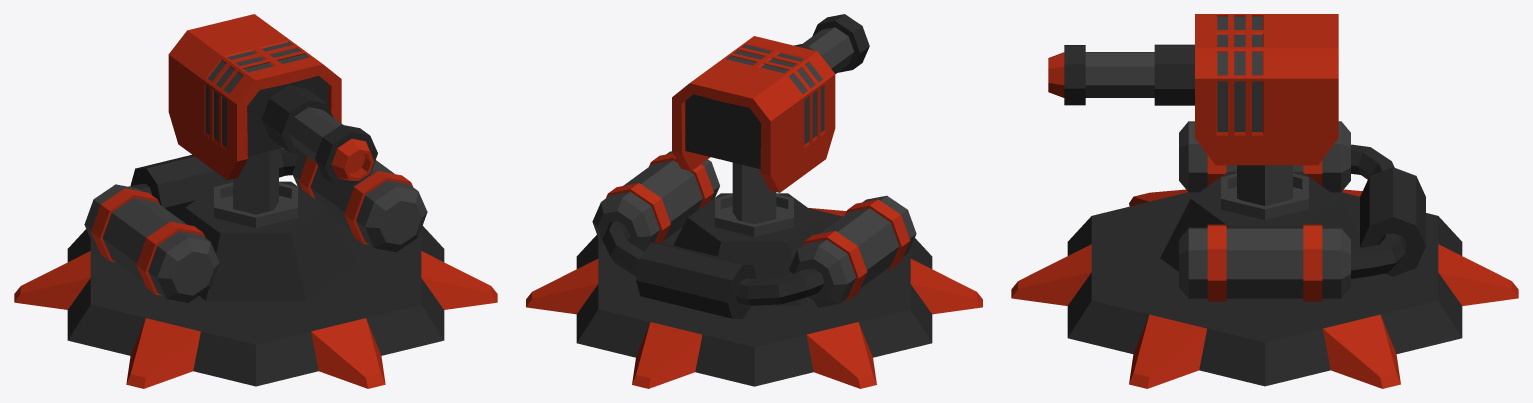
File: Flamethrower Turret.glb
3 renders of one model, left to right at view 1: azimuth 30°, elevation 25°; view 2: azimuth 150°, elevation 25°; view 3: azimuth 270°, elevation 25°, orthographic. The views are drawn at different scales.
Visible parts, largest first — view 1: BaseFlamethrowerTurret1, HeadFlamethrowerTurret1, AmmoFlamethrowerTurret1, MiddleFlamethrowerTurret1; view 2: BaseFlamethrowerTurret1, AmmoFlamethrowerTurret1, HeadFlamethrowerTurret1, MiddleFlamethrowerTurret1; view 3: BaseFlamethrowerTurret1, HeadFlamethrowerTurret1, AmmoFlamethrowerTurret1, MiddleFlamethrowerTurret1.
Boxes of the visible parts, left/top/right/bottom form: BaseFlamethrowerTurret1: left=14, top=217, right=497, bottom=388; HeadFlamethrowerTurret1: left=168, top=14, right=377, bottom=187; AmmoFlamethrowerTurret1: left=84, top=148, right=427, bottom=302; MiddleFlamethrowerTurret1: left=179, top=149, right=355, bottom=300; BaseFlamethrowerTurret1: left=526, top=208, right=982, bottom=388; AmmoFlamethrowerTurret1: left=592, top=151, right=916, bottom=318; HeadFlamethrowerTurret1: left=672, top=14, right=869, bottom=192; MiddleFlamethrowerTurret1: left=673, top=162, right=826, bottom=305; BaseFlamethrowerTurret1: left=1011, top=189, right=1518, bottom=388; HeadFlamethrowerTurret1: left=1048, top=14, right=1338, bottom=165; AmmoFlamethrowerTurret1: left=1179, top=121, right=1425, bottom=301; MiddleFlamethrowerTurret1: left=1160, top=165, right=1360, bottom=271.
Bounding box in the file's own units: 4.42 × 2.81 × 4.92.
